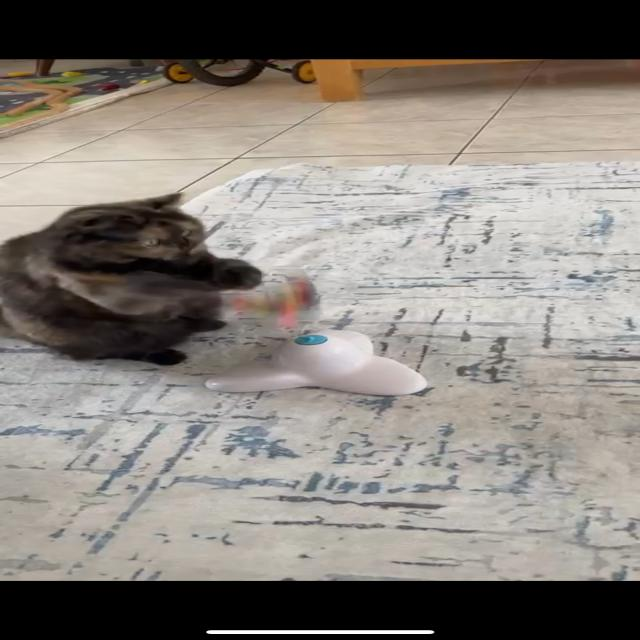authorized: (1, 192, 262, 366)
